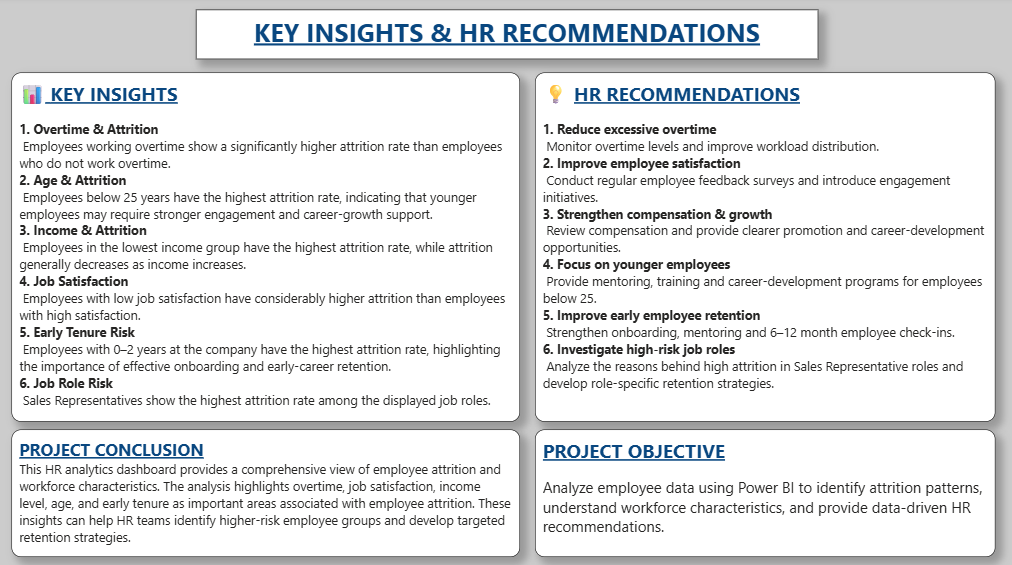

This screenshot's page, from the dashboard's own definition file:
{"tool":"powerbi","page":{"name":"Key Insights & Recommendations","canvas":[1280,720],"ordinal":3},"visuals":[{"type":"textbox","box":[249.5,17,784.3,62.4],"z":0},{"type":"textbox","box":[17,96.4,640.6,440.3],"z":1000},{"type":"textbox","box":[676.5,96.4,580.2,440.3],"z":2000},{"type":"textbox","box":[17,546.1,640.6,160.6],"z":3000},{"type":"textbox","box":[676.5,546.1,580.2,160.6],"z":4000}]}

Visuals, with their boxes in screenshot pixels (x1, y1, x2, y2), scaled from the page's 1280x720 canvas onto the 1012x565 screenshot:
textbox: region(197, 13, 817, 62)
textbox: region(13, 76, 520, 421)
textbox: region(535, 76, 994, 421)
textbox: region(13, 429, 520, 555)
textbox: region(535, 429, 994, 555)
